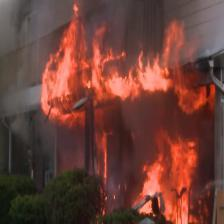fire: (42, 4, 219, 222)
